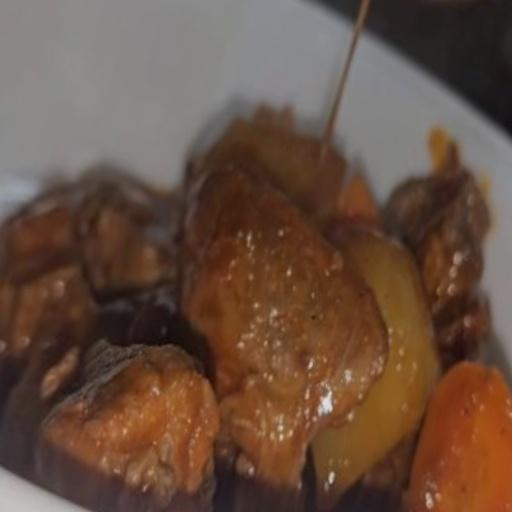pork caldereta: (0, 105, 511, 511)
